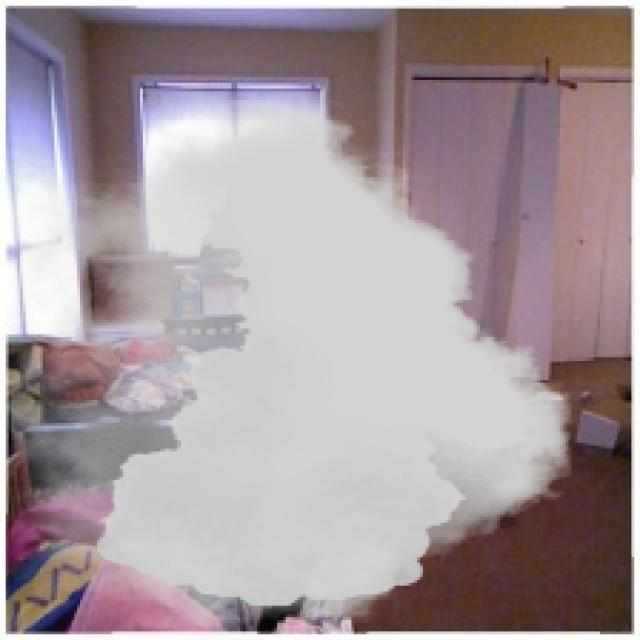Smoke: (11, 99, 572, 632)
